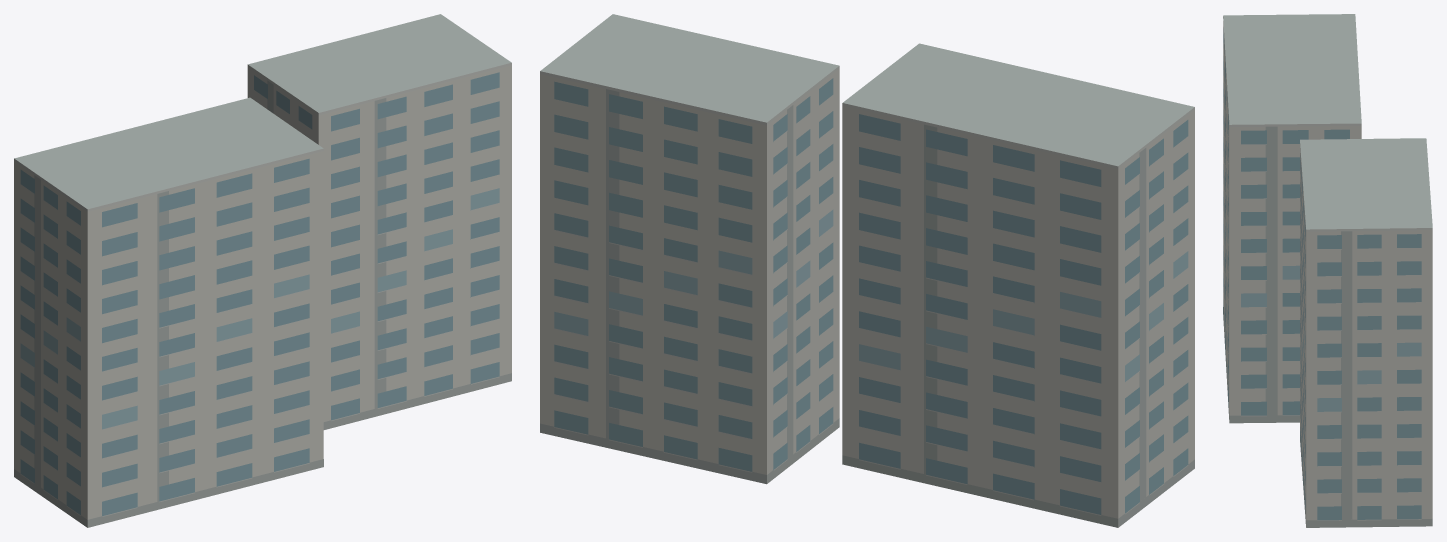
The model's file is residential-fba230fc-ddfd-4b4e-a57a-2c648accb983.glb.
3 views of the same model, side by side, from view 1: azimuth 30°, elevation 25°; view 2: azimuth 150°, elevation 25°; view 3: azimuth 270°, elevation 25° (orthographic). The views are drawn at different scales.
Parts seen in each view (by area): view 1: residential-fba230fc-ddfd-4b4e-a57a-2c648accb983.tmp; view 2: residential-fba230fc-ddfd-4b4e-a57a-2c648accb983.tmp; view 3: residential-fba230fc-ddfd-4b4e-a57a-2c648accb983.tmp.
Part boxes in pixels (<box>): residential-fba230fc-ddfd-4b4e-a57a-2c648accb983.tmp: <box>14,14,511,527</box>; residential-fba230fc-ddfd-4b4e-a57a-2c648accb983.tmp: <box>540,14,1194,527</box>; residential-fba230fc-ddfd-4b4e-a57a-2c648accb983.tmp: <box>1223,14,1432,527</box>.
Bounding box in the file's own units: 48.02 × 31 × 19.75.
